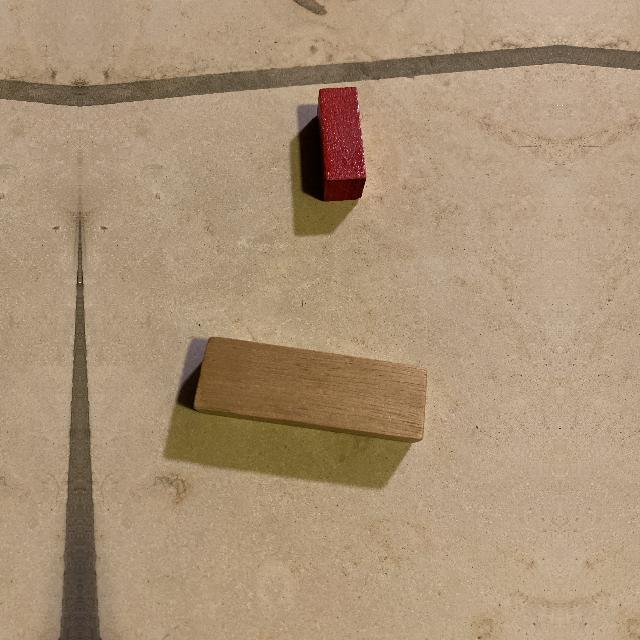jenga: (189, 337, 428, 443)
red block: (317, 86, 367, 201)
